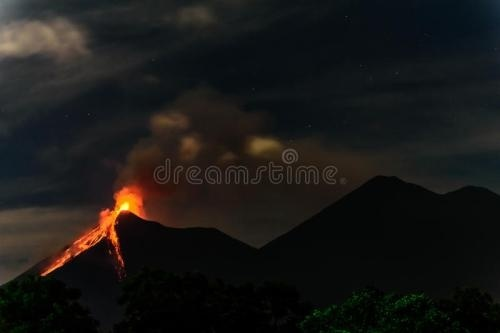fire: (49, 184, 145, 271)
